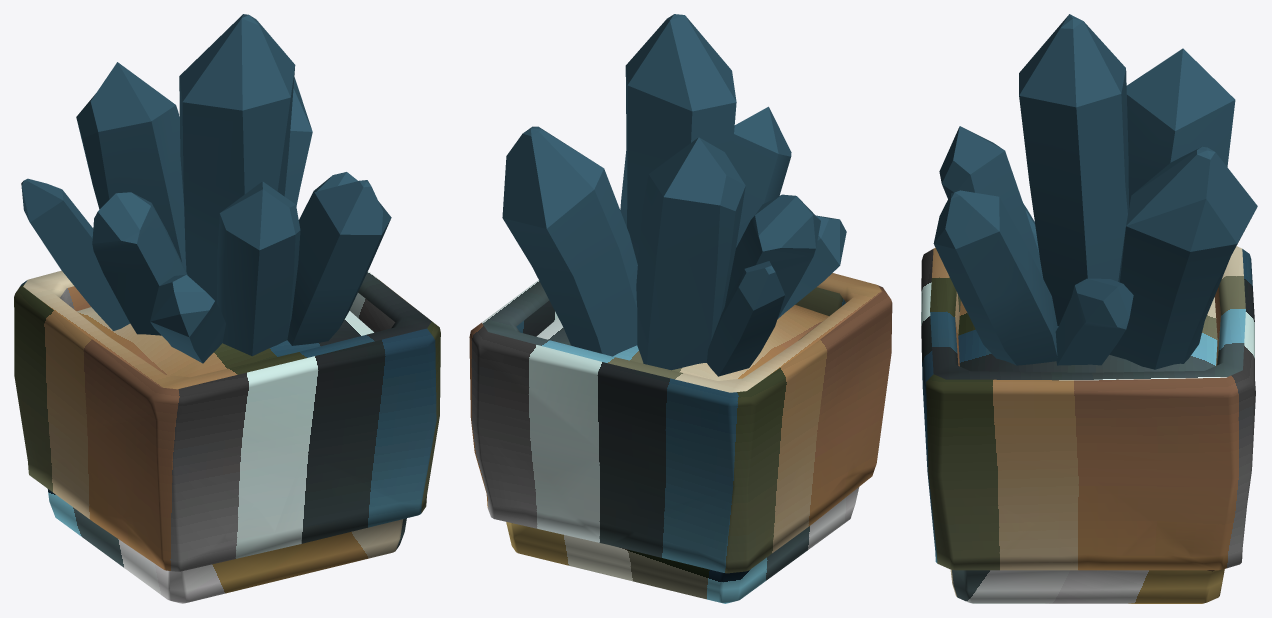
Rendered from Prop_AP19CrystalJar.glb.
The picture shows the model from 3 angles, left to right: view 1: azimuth 30°, elevation 25°; view 2: azimuth 150°, elevation 25°; view 3: azimuth 270°, elevation 25°; orthographic projection. The views are drawn at different scales.
Visible parts, largest first — view 1: Prop_AP19CrystalJar; view 2: Prop_AP19CrystalJar; view 3: Prop_AP19CrystalJar.
Boxes of the visible parts, x1,y1,x2,y2 form: Prop_AP19CrystalJar: [14, 14, 440, 603]; Prop_AP19CrystalJar: [469, 14, 892, 603]; Prop_AP19CrystalJar: [921, 14, 1257, 603].
Bounding box in the file's own units: 0.9589 × 1.61 × 0.909.
Materials: 1 (1 with a texture image).
